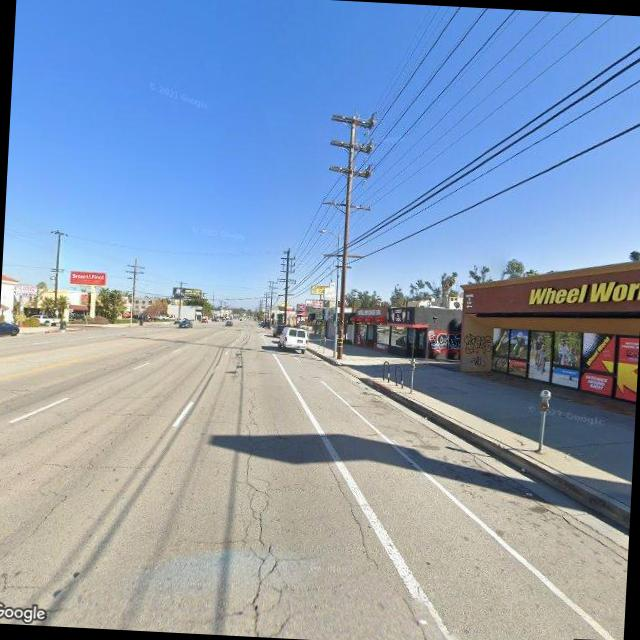crack: (299, 439, 438, 640), (233, 384, 290, 637), (476, 467, 630, 558)
